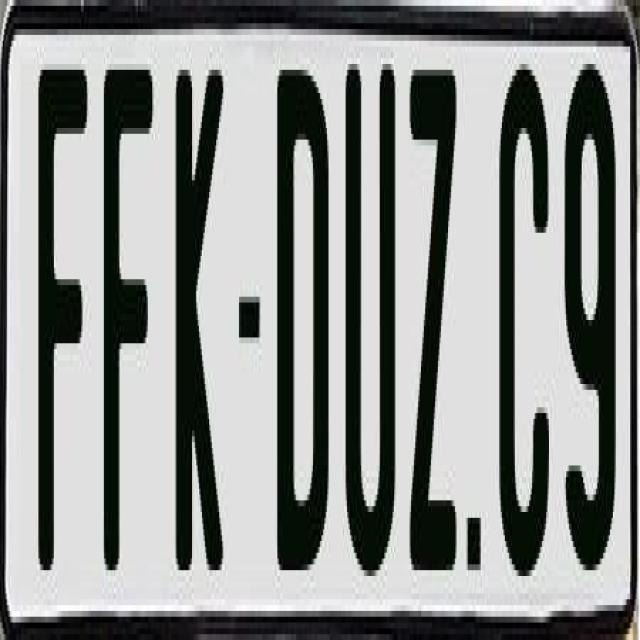9: (563, 47, 619, 564)
C: (495, 64, 546, 594)
D: (273, 64, 330, 588)
F: (100, 58, 150, 588), (36, 52, 86, 553)
K: (177, 64, 230, 576)
U: (346, 58, 400, 576)
Z: (406, 64, 460, 582)
